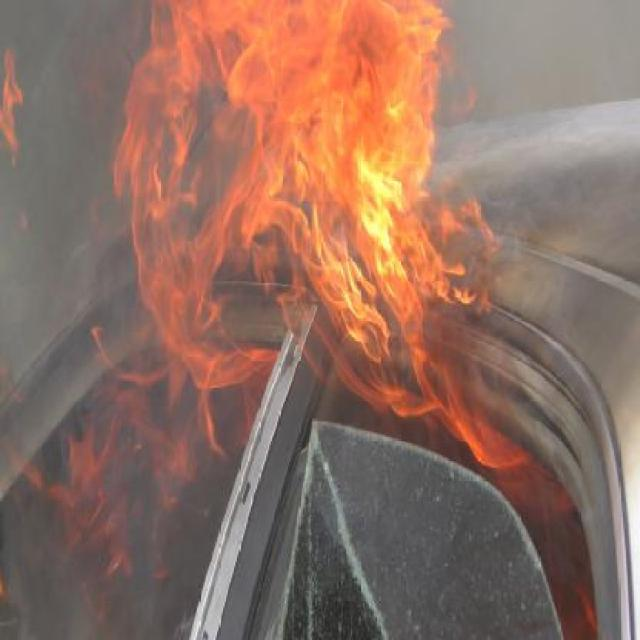Fire: (112, 0, 524, 464)
